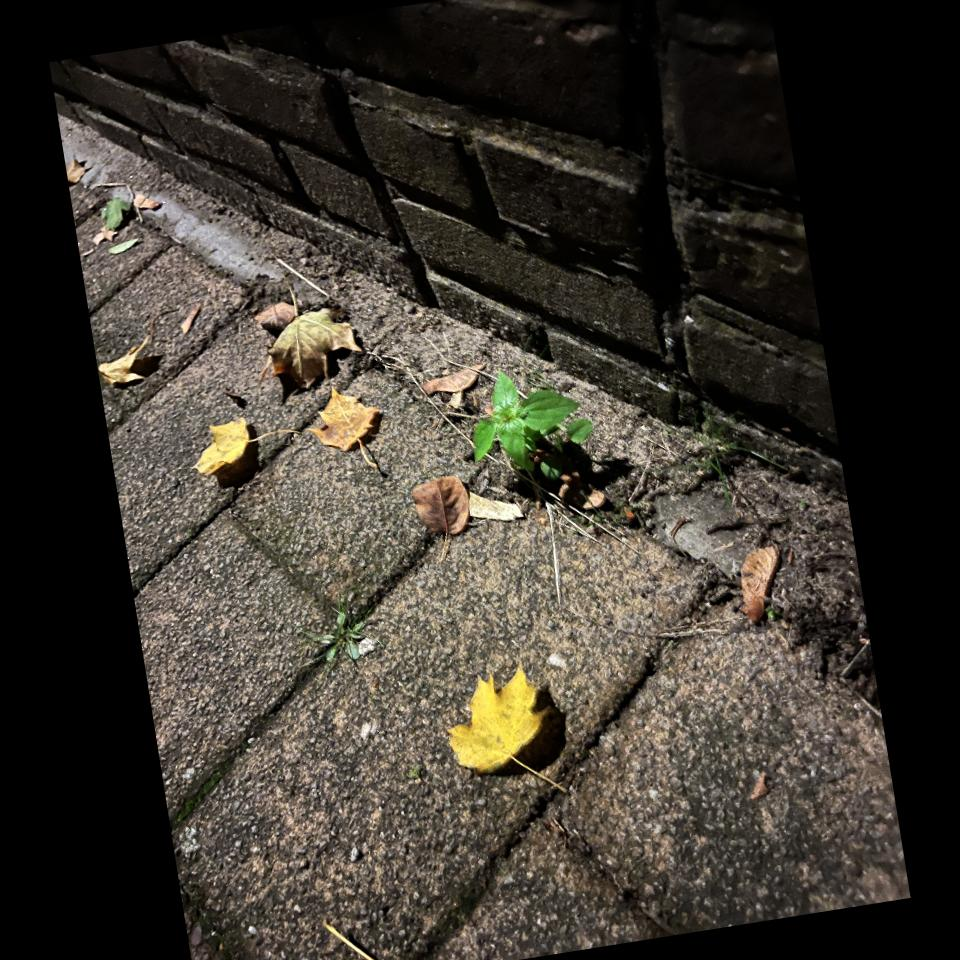weed: (437, 346, 604, 510), (302, 593, 396, 692)
